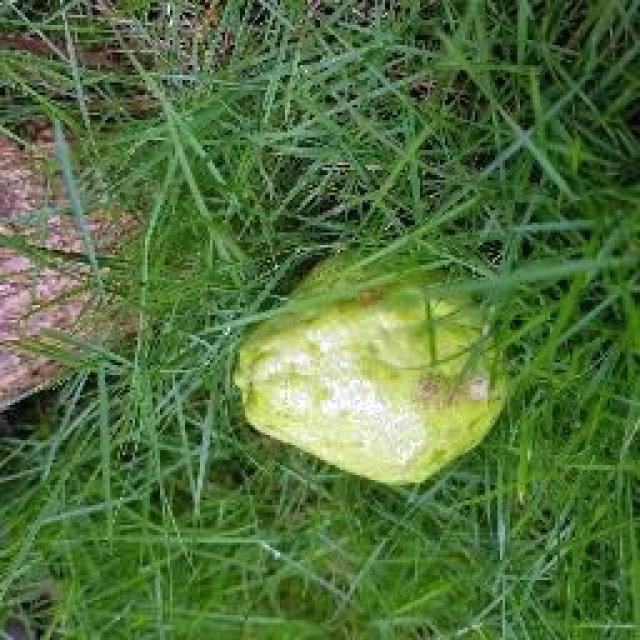Good_Guava: (230, 275, 508, 498)
